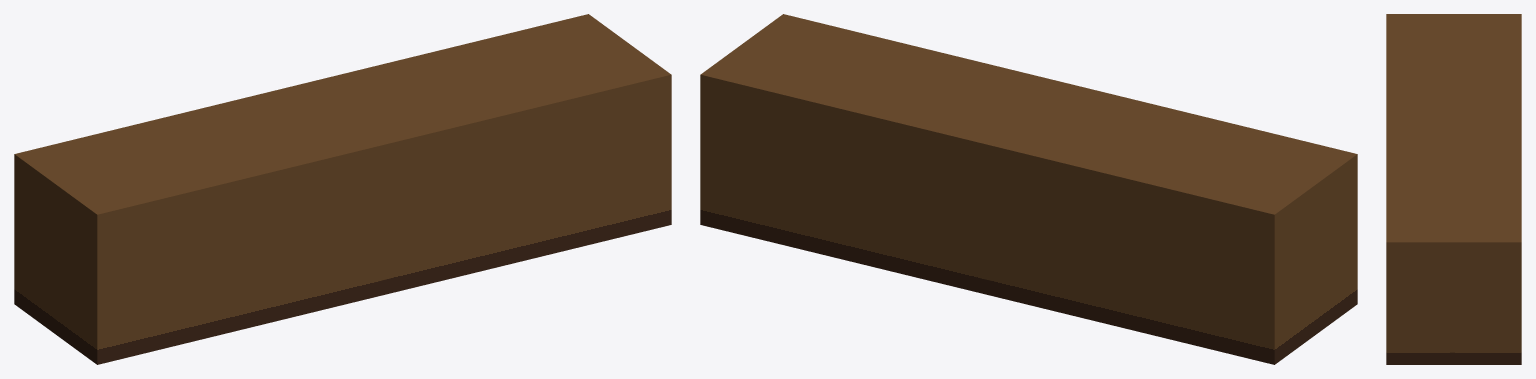
The model's file is block-quad-long.obj.
3 views of the same model, side by side, from view 1: azimuth 30°, elevation 25°; view 2: azimuth 150°, elevation 25°; view 3: azimuth 270°, elevation 25° (orthographic). The views are drawn at different scales.
Visible parts, largest first — view 1: block; view 2: block; view 3: block.
Part boxes in pixels (left/top/right/bottom): block: left=14, top=14, right=671, bottom=364; block: left=700, top=14, right=1357, bottom=364; block: left=1386, top=14, right=1521, bottom=364.
Size of the model in its own units: 8 by 2 by 2.
1 material, 1 textured.
